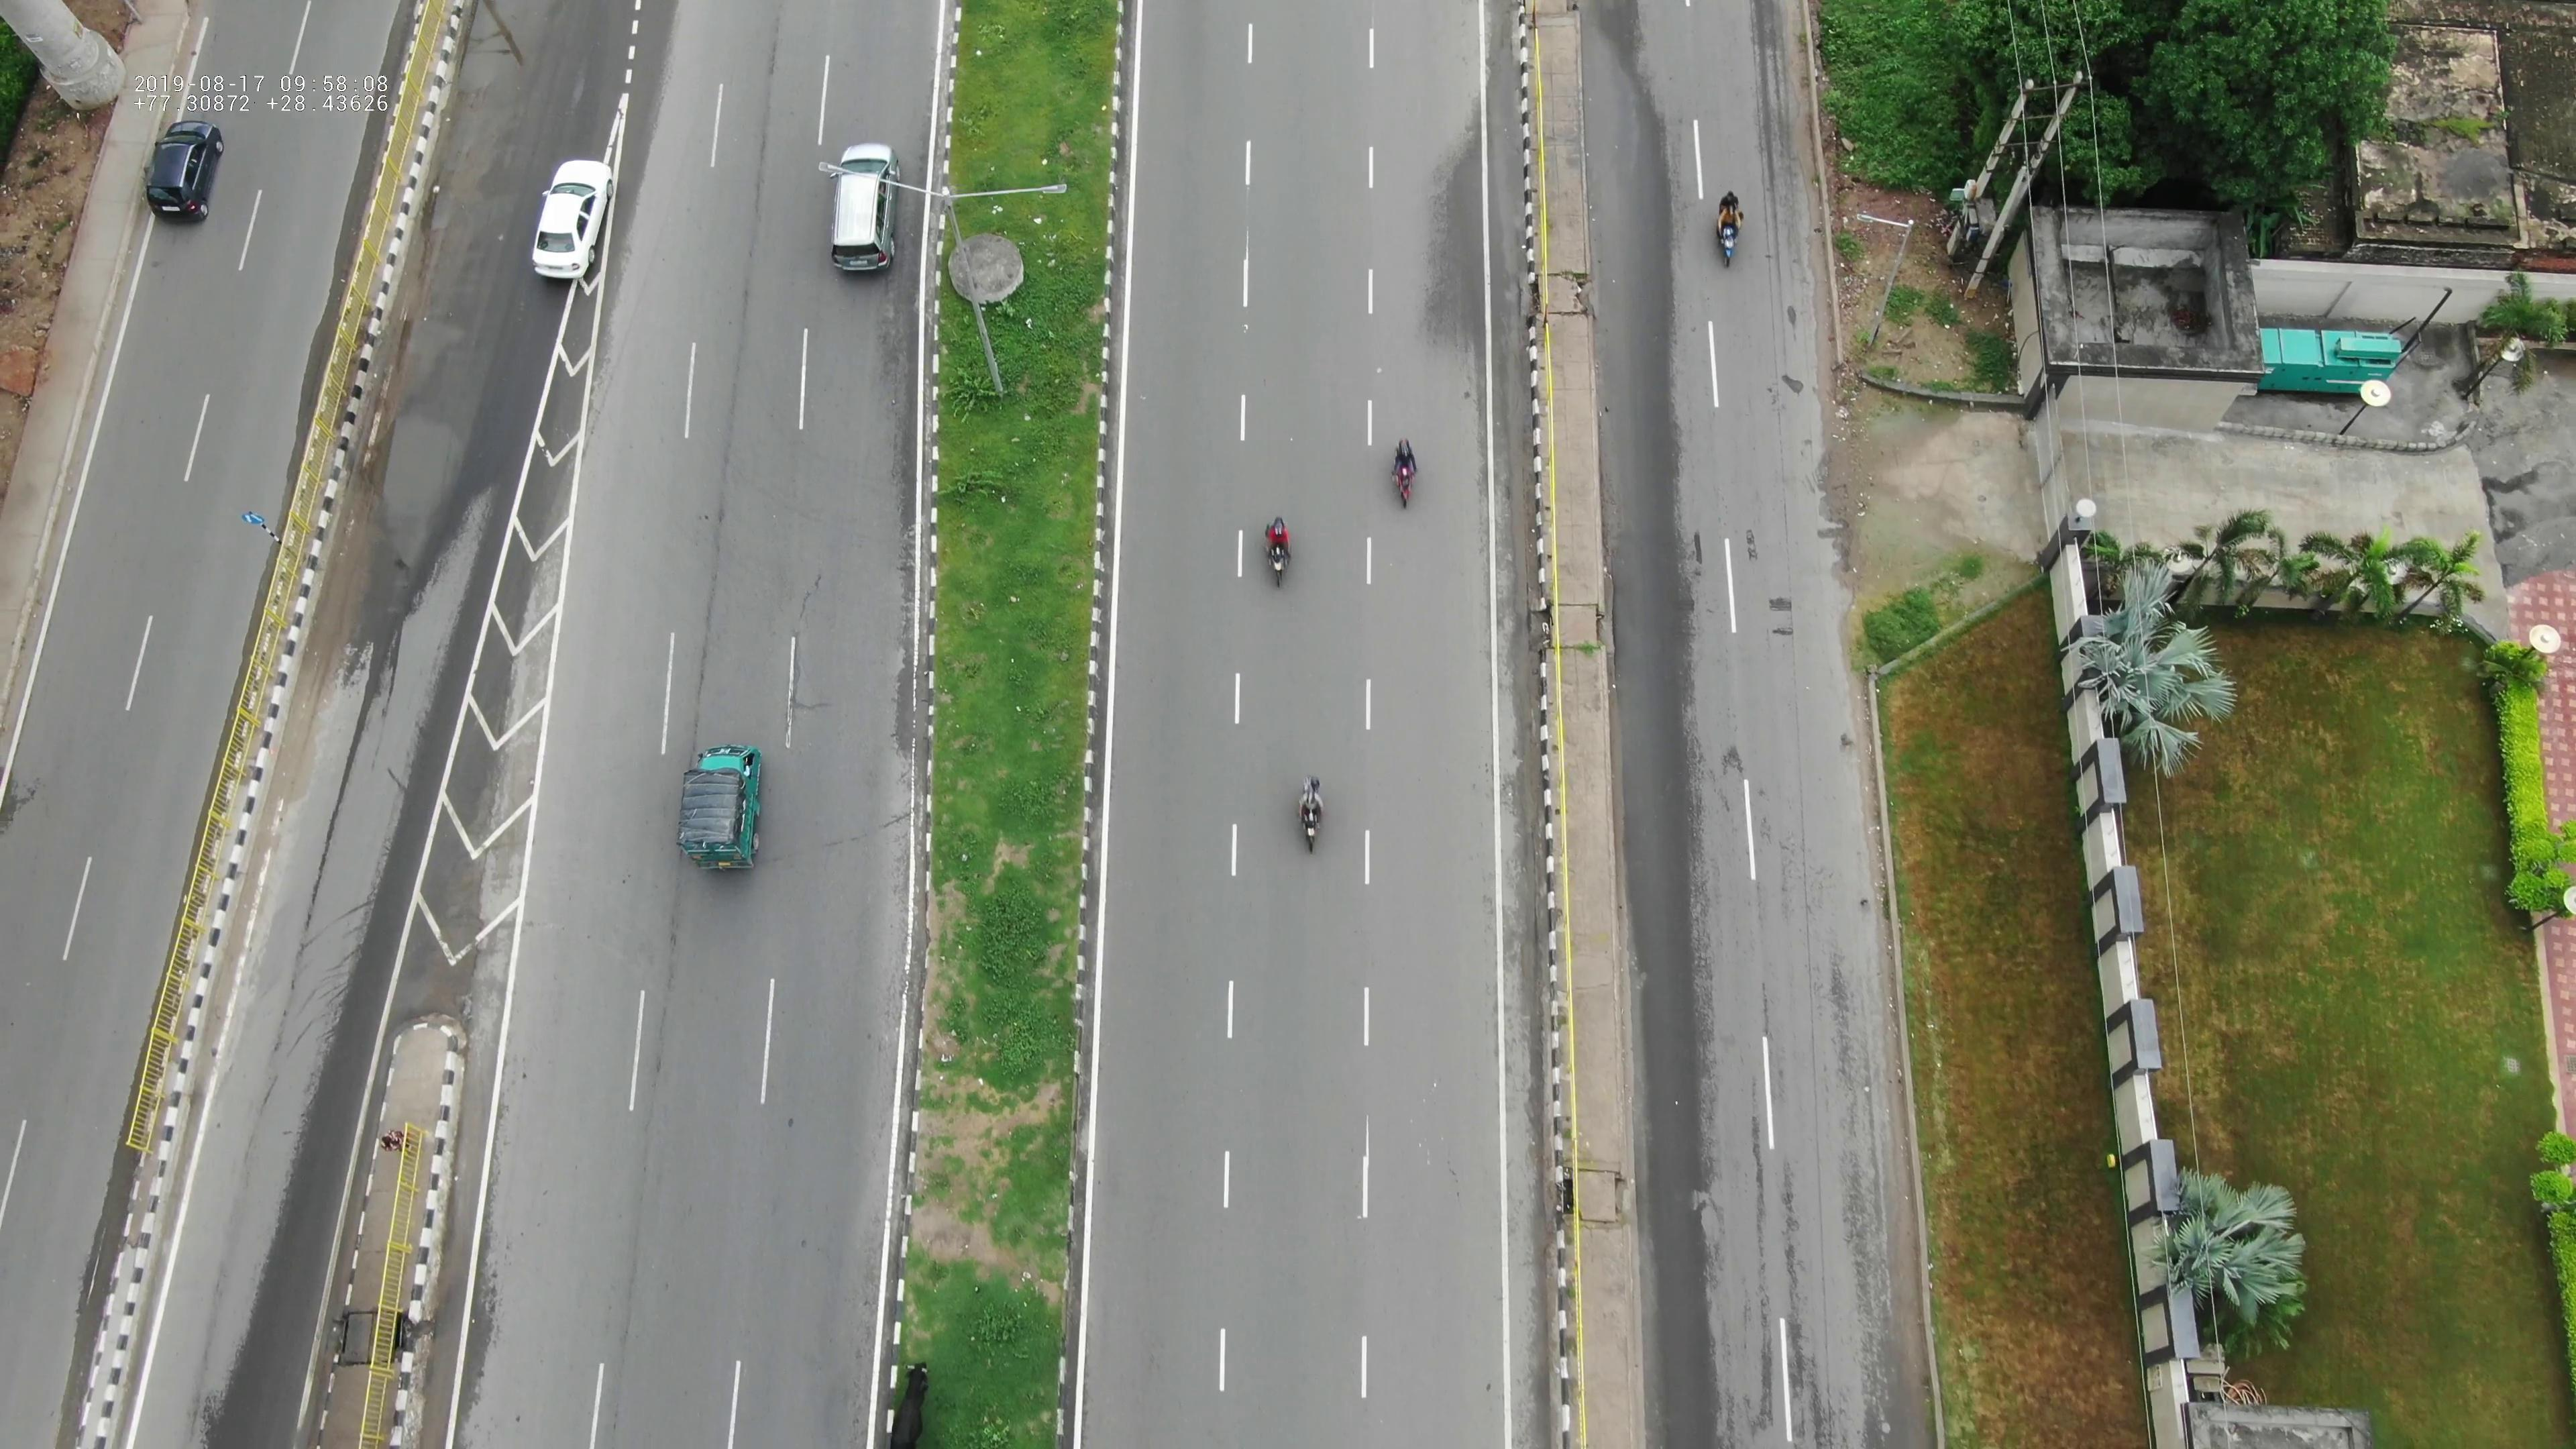Hair_cracks: (754, 554, 840, 757)
